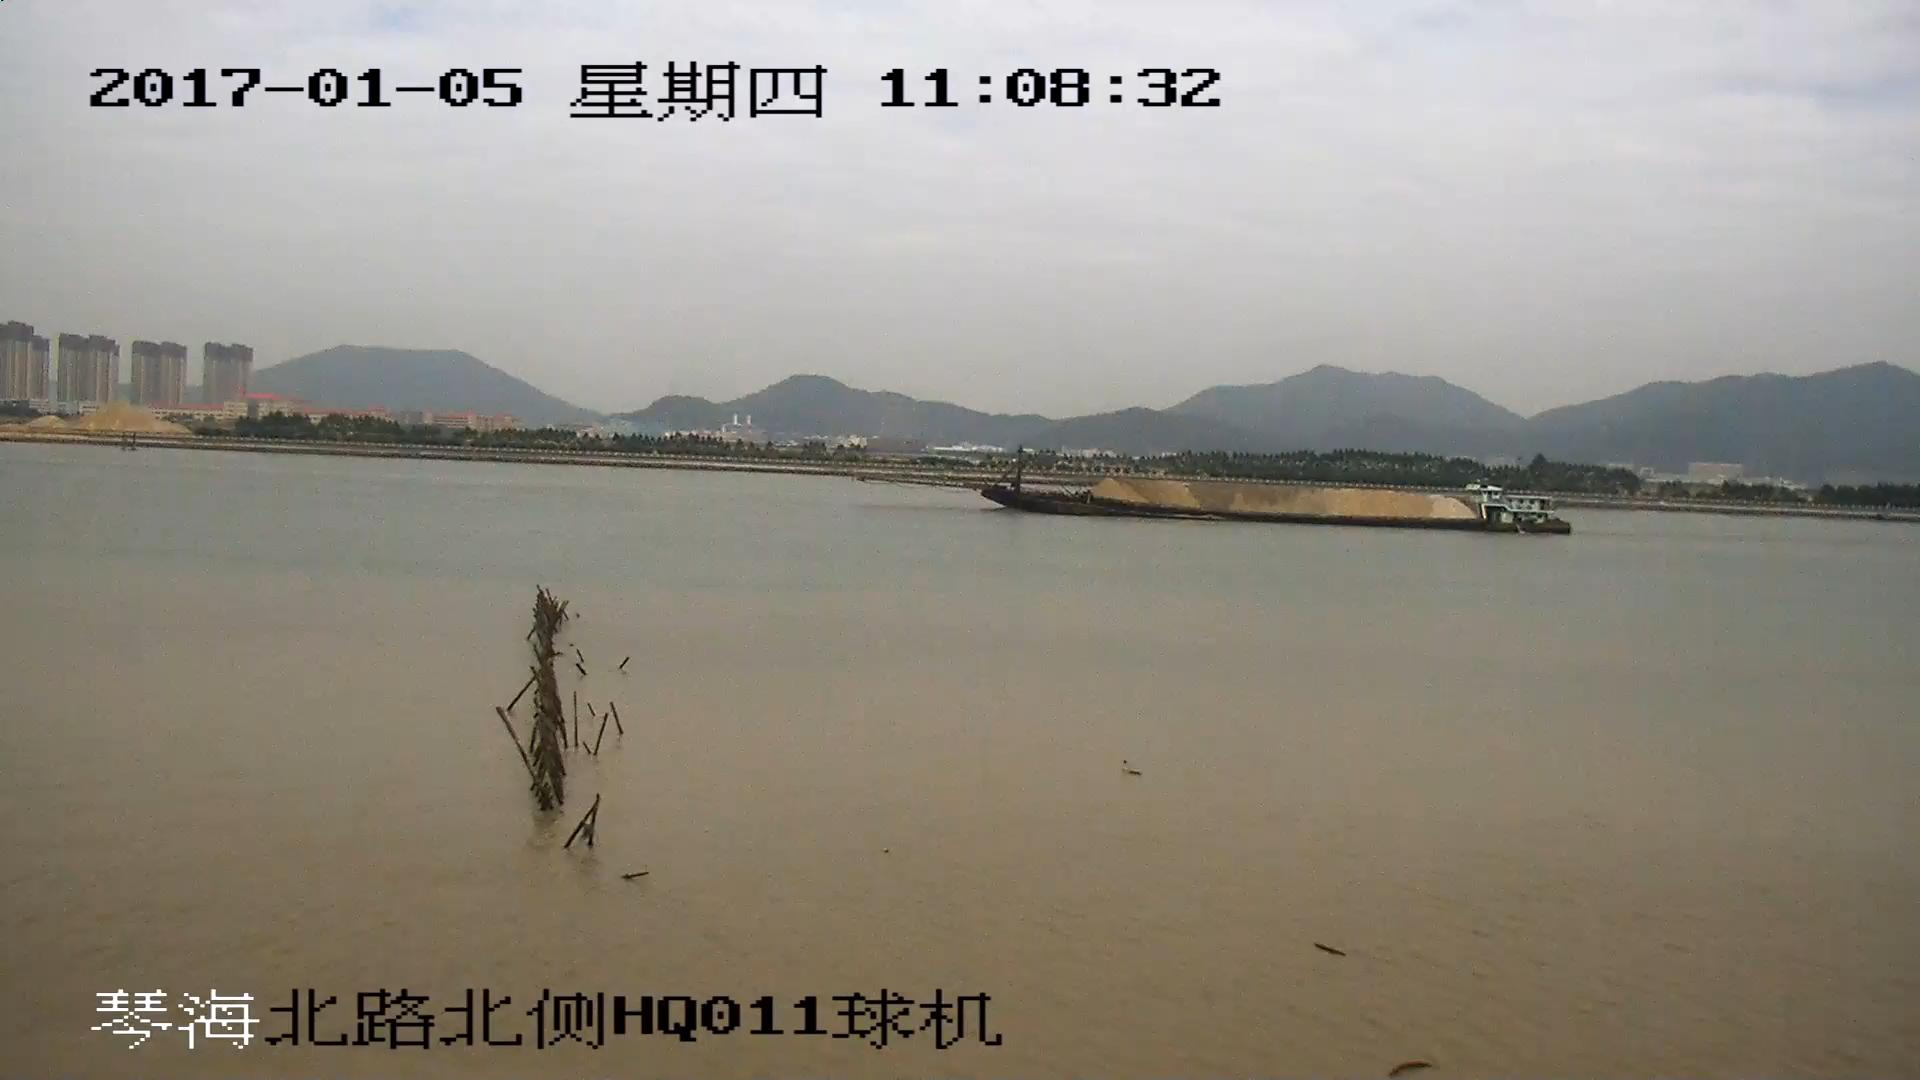ore carrier: (894, 452, 1566, 536)
